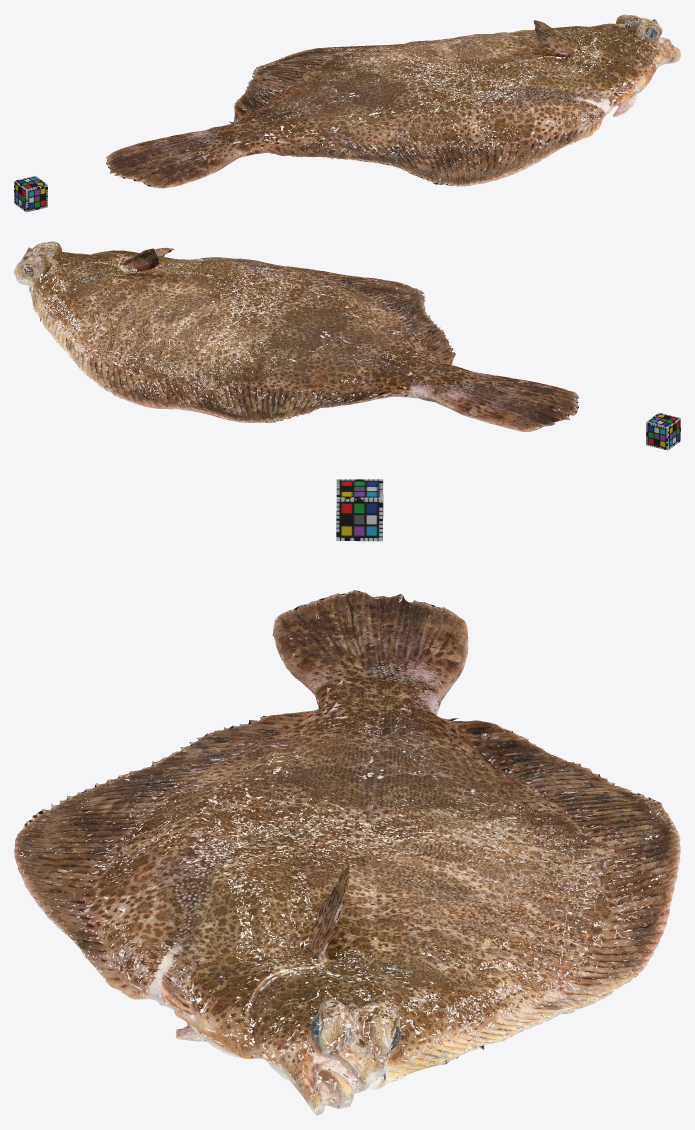
Rendered from scan_flounder_ridge.glb.
3 renders of one model, top to bottom at view 1: azimuth 30°, elevation 25°; view 2: azimuth 150°, elevation 25°; view 3: azimuth 270°, elevation 25°, orthographic. The views are drawn at different scales.
Visible parts, largest first — view 1: Object_6, Object_14, Object_21, Object_4; view 2: Object_6, Object_21, Object_14, Object_4; view 3: Object_6, Object_14, Object_21, Object_4.
Boxes of the visible parts, box(x1,y1,x2,y2) form: Object_6: box(107, 14, 680, 187); Object_14: box(106, 15, 680, 188); Object_21: box(107, 14, 679, 187); Object_4: box(14, 175, 47, 212); Object_6: box(14, 242, 576, 430); Object_21: box(14, 241, 578, 427); Object_14: box(15, 241, 578, 431); Object_4: box(646, 413, 680, 450); Object_6: box(14, 595, 680, 1115); Object_14: box(18, 590, 680, 1114); Object_21: box(14, 590, 680, 1115); Object_4: box(336, 479, 383, 541).
Bounding box in the file's own units: 21.54 × 3.11 × 10.24.
4 materials, 4 textured.
